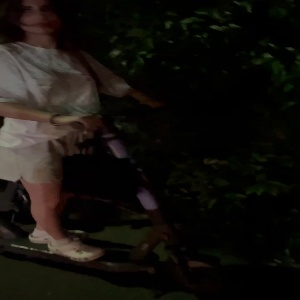human on a scooter: (1, 1, 226, 295)
